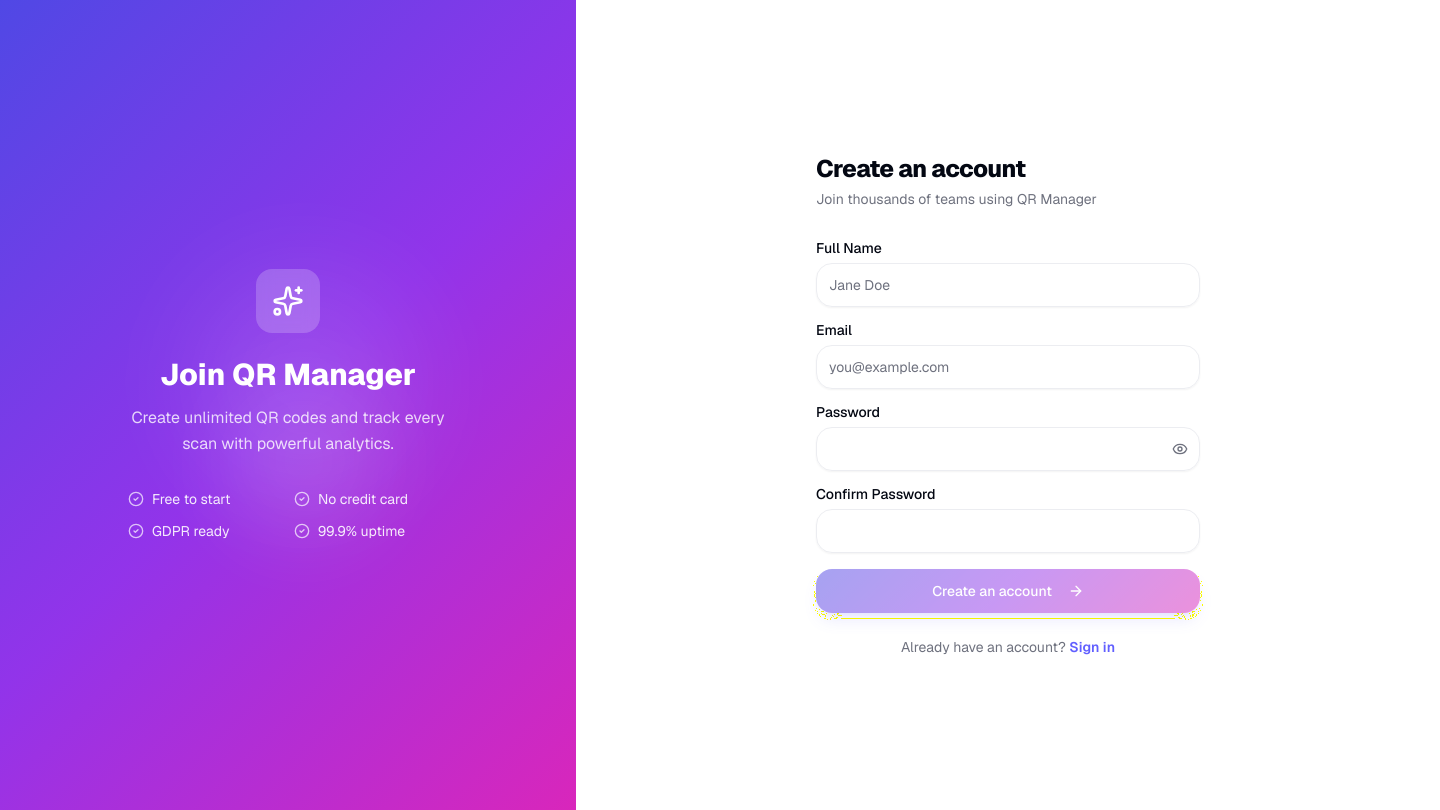
Test case: Sign-up page › strength checklist marks "8 characters" as met when password is long enough
The image size is (1440, 810).
Type "abcdefgh" into the password field labelled "Password".
click(1008, 449); type("abcdefgh")  # box [816,427,1200,471]
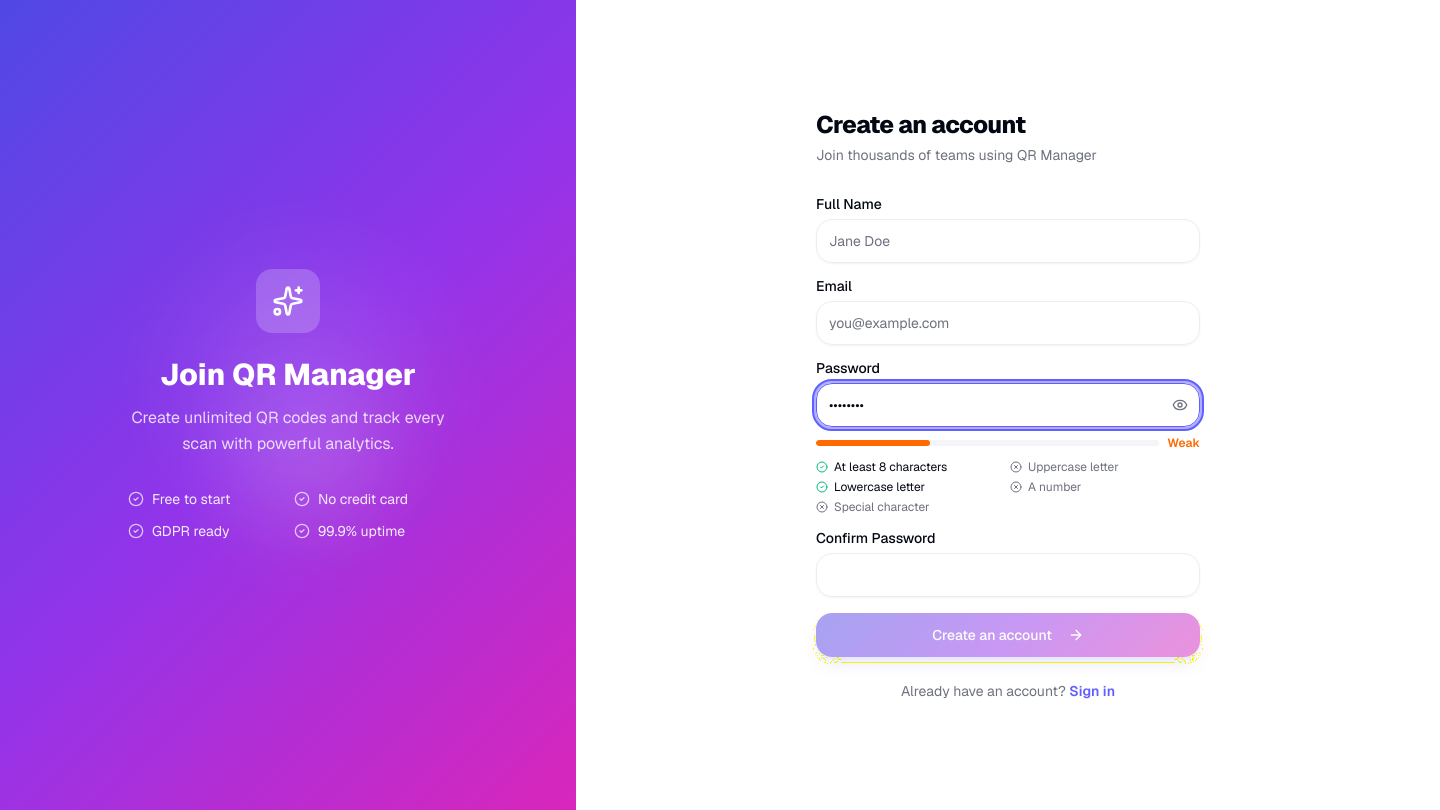
Result: the text "At least 8 characters" is shown at [834,459,947,475]
